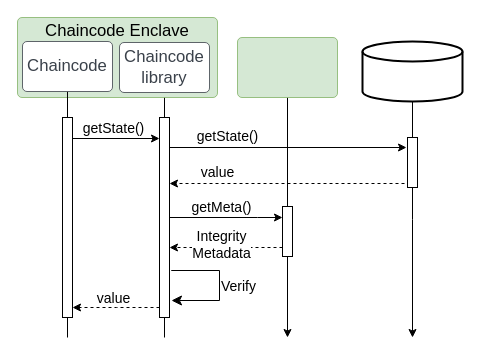
Some shapes in this 481 by 363 pixel diagram are drawn without their labels. Each missing label, with the centre of its shape:
"Ledger Enclave" belongs at (x=287, y=67).
"Worldstate" belongs at (x=412, y=71).
